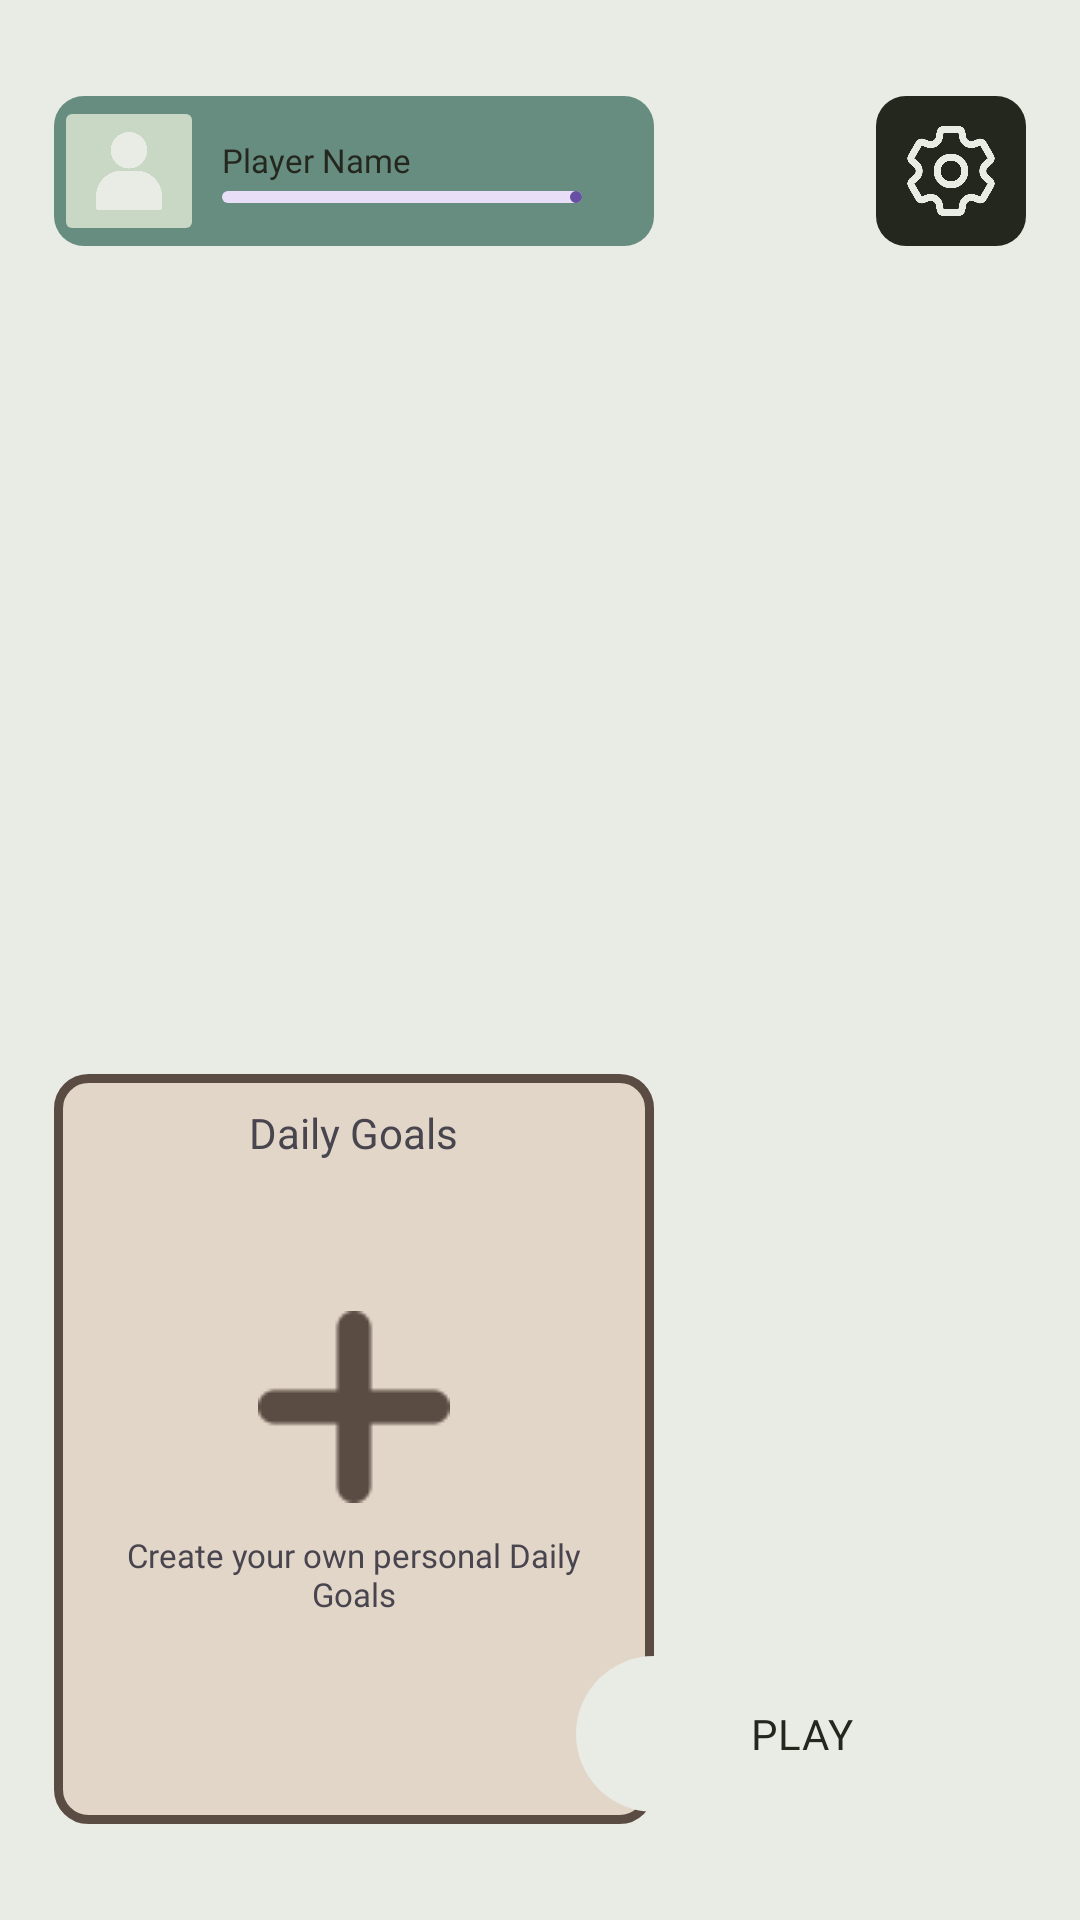

Screen size 1080×1920. Icon name, then its box in pixels as [left=x1, top=y1, right=x2, bottom=y2]:
game settings: [left=876, top=96, right=1026, bottom=246]
profile: [left=54, top=96, right=204, bottom=246]
